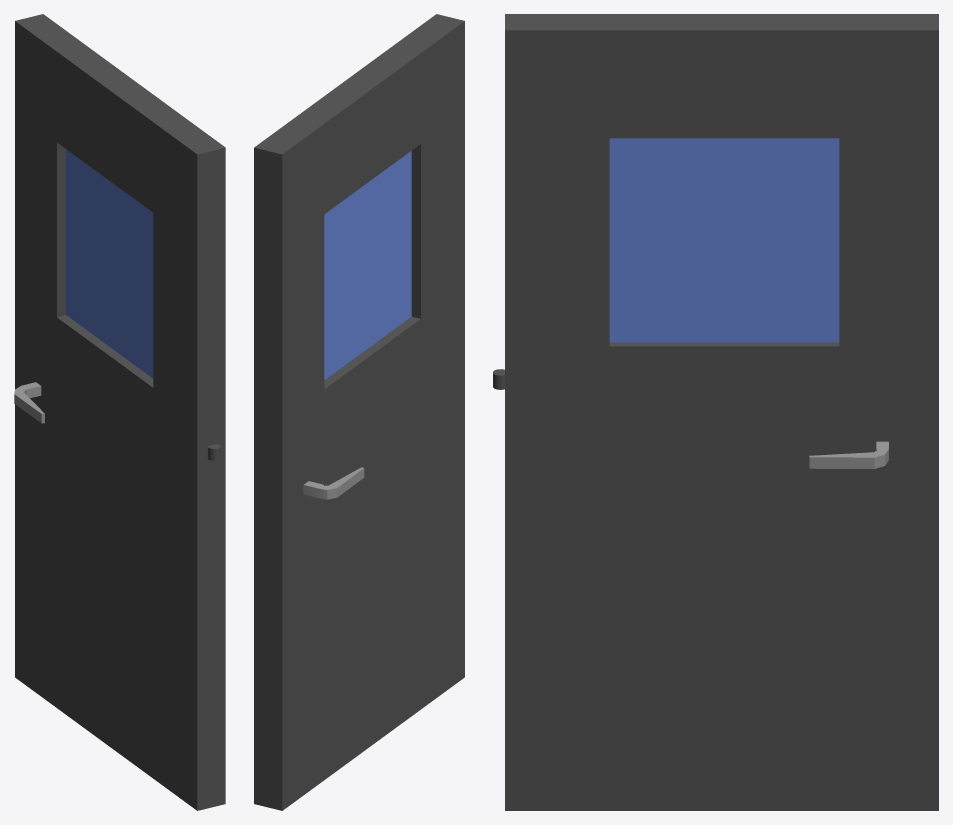
The model's file is door_room1 (1).fbx.
3 renders of one model, left to right at view 1: azimuth 30°, elevation 25°; view 2: azimuth 150°, elevation 25°; view 3: azimuth 270°, elevation 25°, orthographic. The views are drawn at different scales.
Parts seen in each view (by area): view 1: Cylinder; view 2: Cylinder; view 3: Cylinder.
Part boxes in pixels (x1=…): Cylinder: x1=14, y1=14, x2=225, y2=810; Cylinder: x1=254, y1=14, x2=464, y2=810; Cylinder: x1=493, y1=14, x2=938, y2=810.
Size of the model in its own units: 114 by 28.83 by 221.
